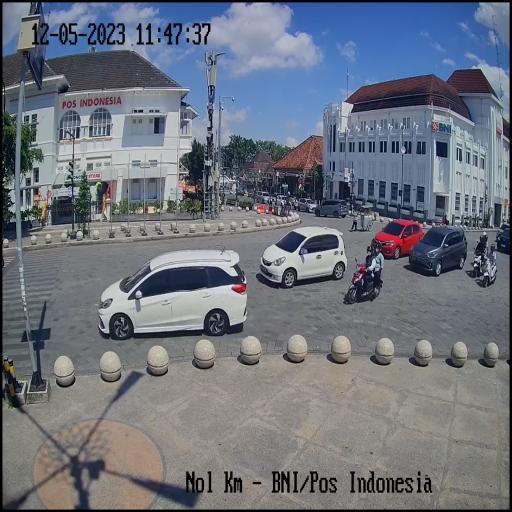mobil: (95, 244, 250, 342), (258, 223, 348, 289), (407, 223, 470, 277), (371, 218, 427, 262)
motor: (345, 256, 386, 308), (472, 246, 488, 280), (484, 254, 498, 291)
